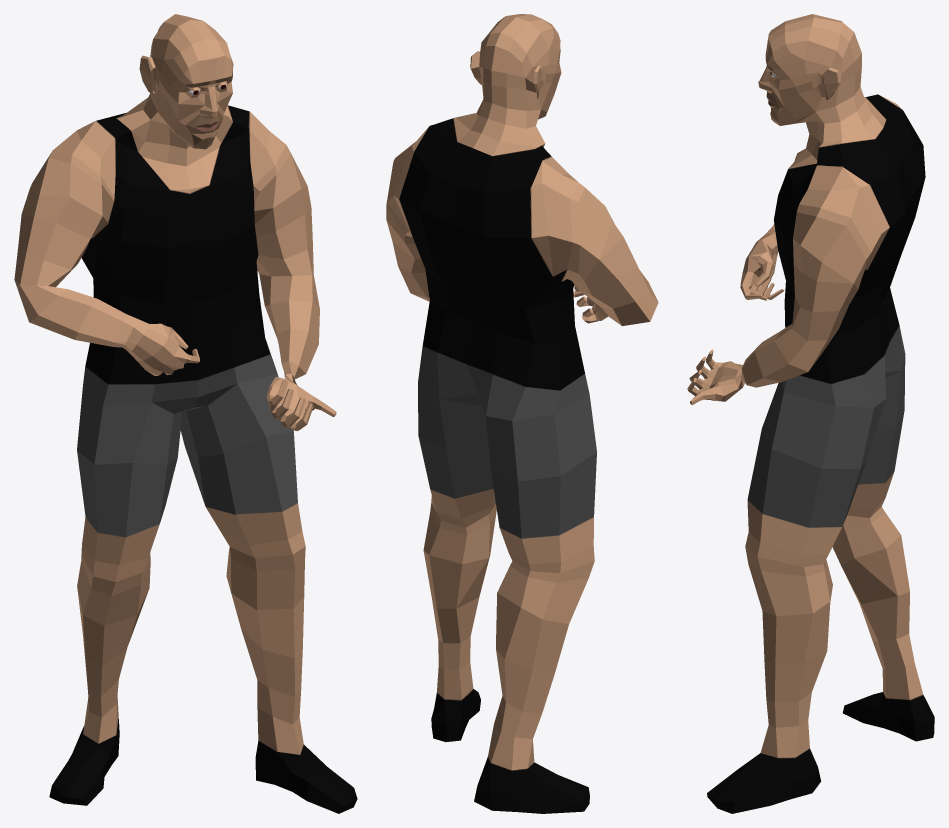
Rendered from PlayerIdle(228).obj.
3 views of the same model, side by side, from view 1: azimuth 30°, elevation 25°; view 2: azimuth 150°, elevation 25°; view 3: azimuth 270°, elevation 25° (orthographic). The views are drawn at different scales.
Parts seen in each view (by area): view 1: Plane002; view 2: Plane002; view 3: Plane002.
Boxes of the visible parts, x1=… form: Plane002: x1=14, y1=14, x2=357, y2=813; Plane002: x1=386, y1=14, x2=658, y2=813; Plane002: x1=687, y1=14, x2=934, y2=813.
Bounding box in the file's own units: 678 × 1805 × 547.
